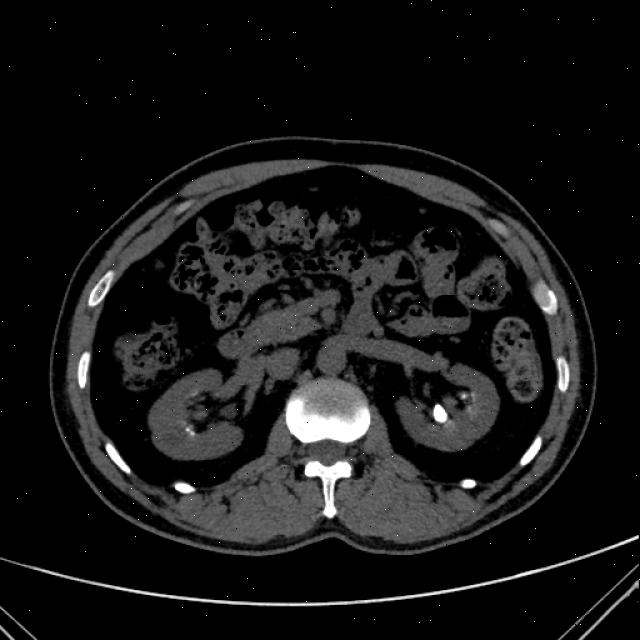kidneystone: (432, 402, 449, 424), (185, 422, 195, 437)
